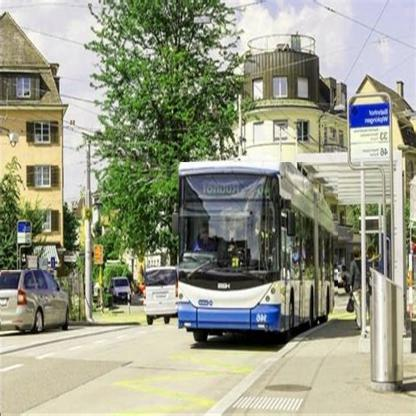bus: (179, 163, 339, 347)
car: (1, 271, 69, 332), (146, 266, 177, 327), (112, 277, 134, 307)
